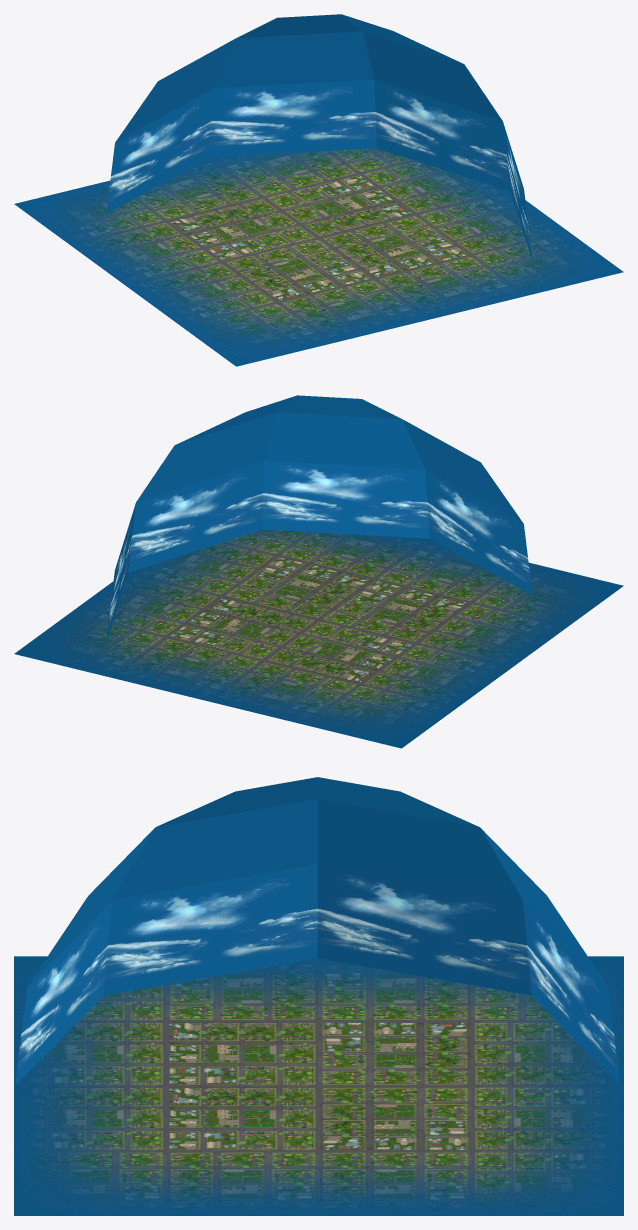
File: bluesky3.glb
3 views of the same model, one above another, from view 1: azimuth 30°, elevation 25°; view 2: azimuth 150°, elevation 25°; view 3: azimuth 270°, elevation 25° (orthographic). The views are drawn at different scales.
Parts seen in each view (by area): view 1: Plane01; view 2: Plane01; view 3: Plane01.
Boxes of the visible parts, x1,y1,x2,y2 form: Plane01: [14, 14, 623, 366]; Plane01: [14, 395, 623, 748]; Plane01: [14, 777, 623, 1215].
Size of the model in its own units: 107114 by 52237 by 106420.
5 materials, 5 textured.
